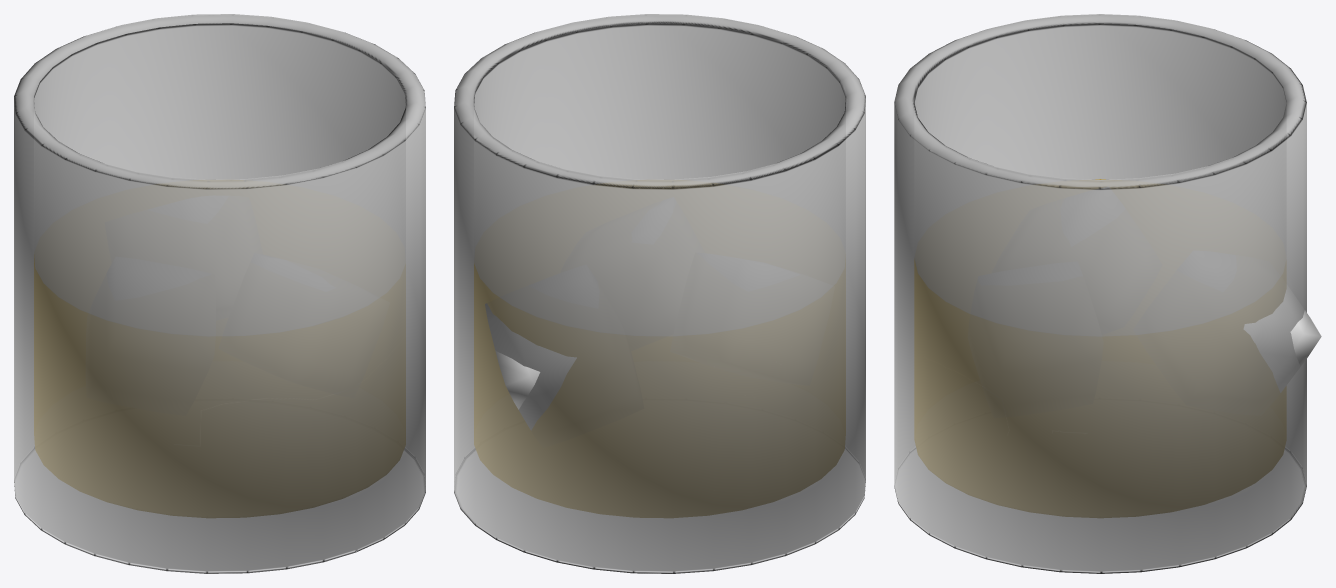
File: whiskey_glass.glb
3 views of the same model, side by side, from view 1: azimuth 30°, elevation 25°; view 2: azimuth 150°, elevation 25°; view 3: azimuth 270°, elevation 25° (orthographic).
Visible parts, largest first — view 1: Cylinder; view 2: Cylinder, Cube; view 3: Cylinder, Cube.
Boxes of the visible parts, x1=… form: Cylinder: x1=14, y1=14, x2=425, y2=573; Cylinder: x1=454, y1=14, x2=865, y2=573; Cube: x1=485, y1=304, x2=576, y2=429; Cylinder: x1=894, y1=14, x2=1306, y2=573; Cube: x1=1244, y1=285, x2=1321, y2=392.
Bounding box in the file's own units: 0.0616 × 0.0642 × 0.0638.
1 material, 1 textured.
